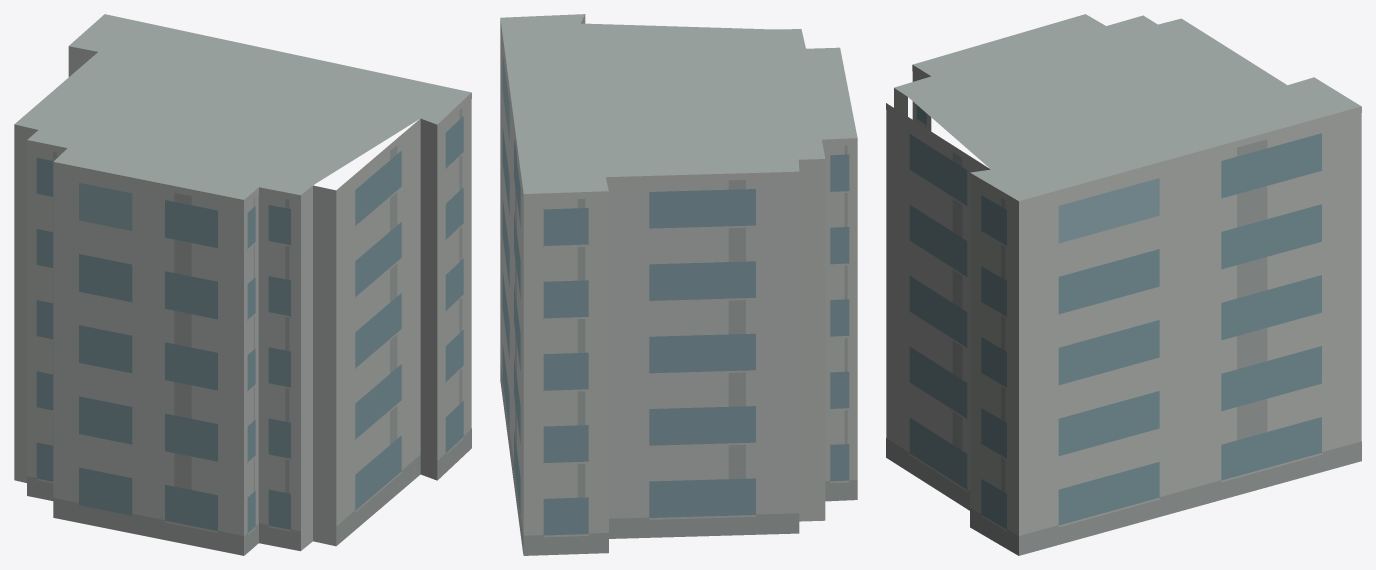
File: survey-upis-32888342.glb
3 renders of one model, left to right at view 1: azimuth 30°, elevation 25°; view 2: azimuth 150°, elevation 25°; view 3: azimuth 270°, elevation 25°, orthographic. The views are drawn at different scales.
Visible parts, largest first — view 1: survey-upis-32888342.tmp; view 2: survey-upis-32888342.tmp; view 3: survey-upis-32888342.tmp.
Part boxes in pixels (box(x1,y1,x2,y2)): survey-upis-32888342.tmp: box(14, 14, 471, 555); survey-upis-32888342.tmp: box(500, 14, 857, 555); survey-upis-32888342.tmp: box(886, 14, 1361, 555).
Size of the model in its own units: 14.72 by 13 by 15.8.
